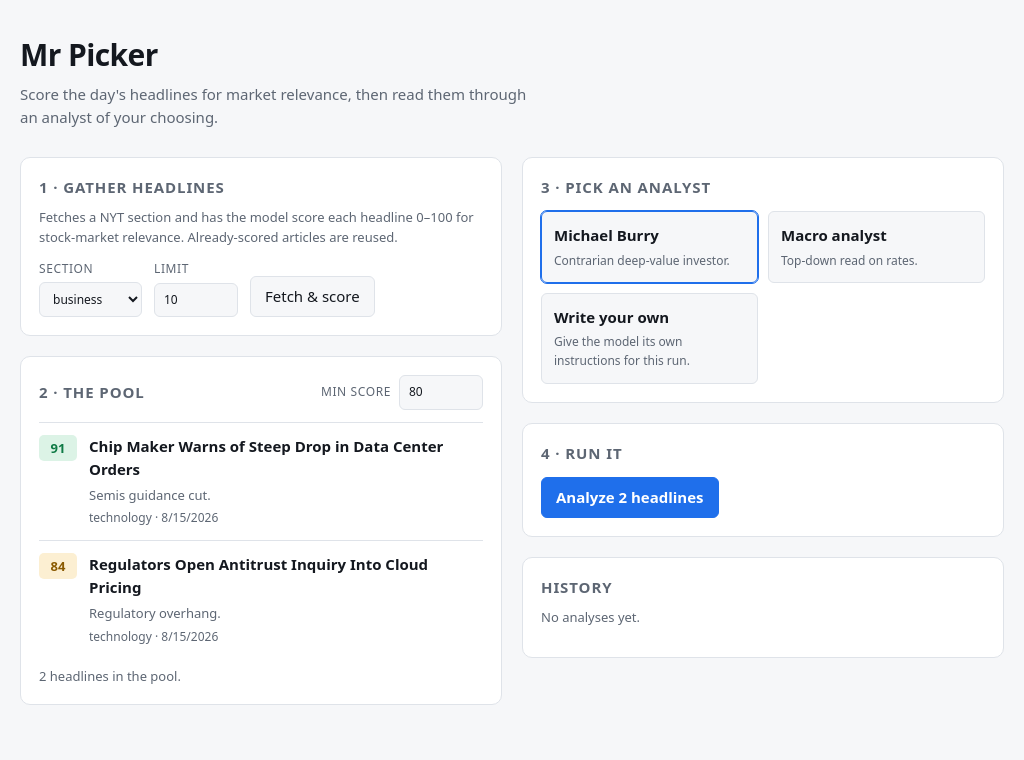
App › will not run an empty custom prompt
Click the text "Write your own" at (612, 318), box left=554, top=306, right=669, bottom=329
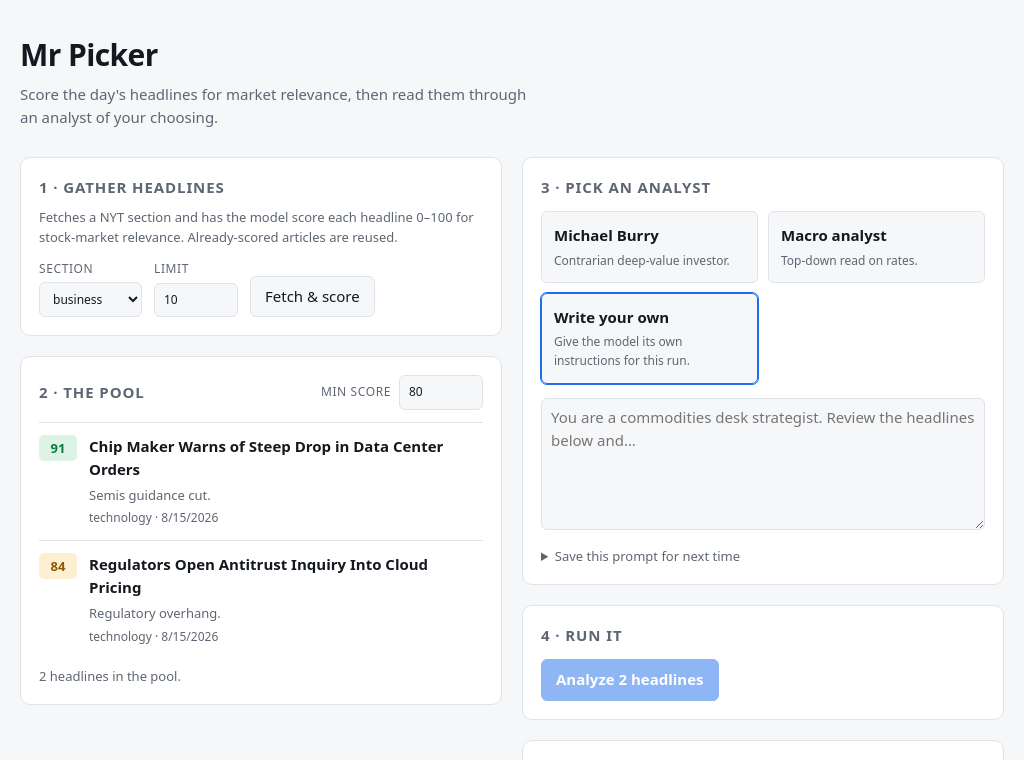
Expected: the button "Analyze 2 headlines" is disabled, left=541, top=659, right=718, bottom=701
